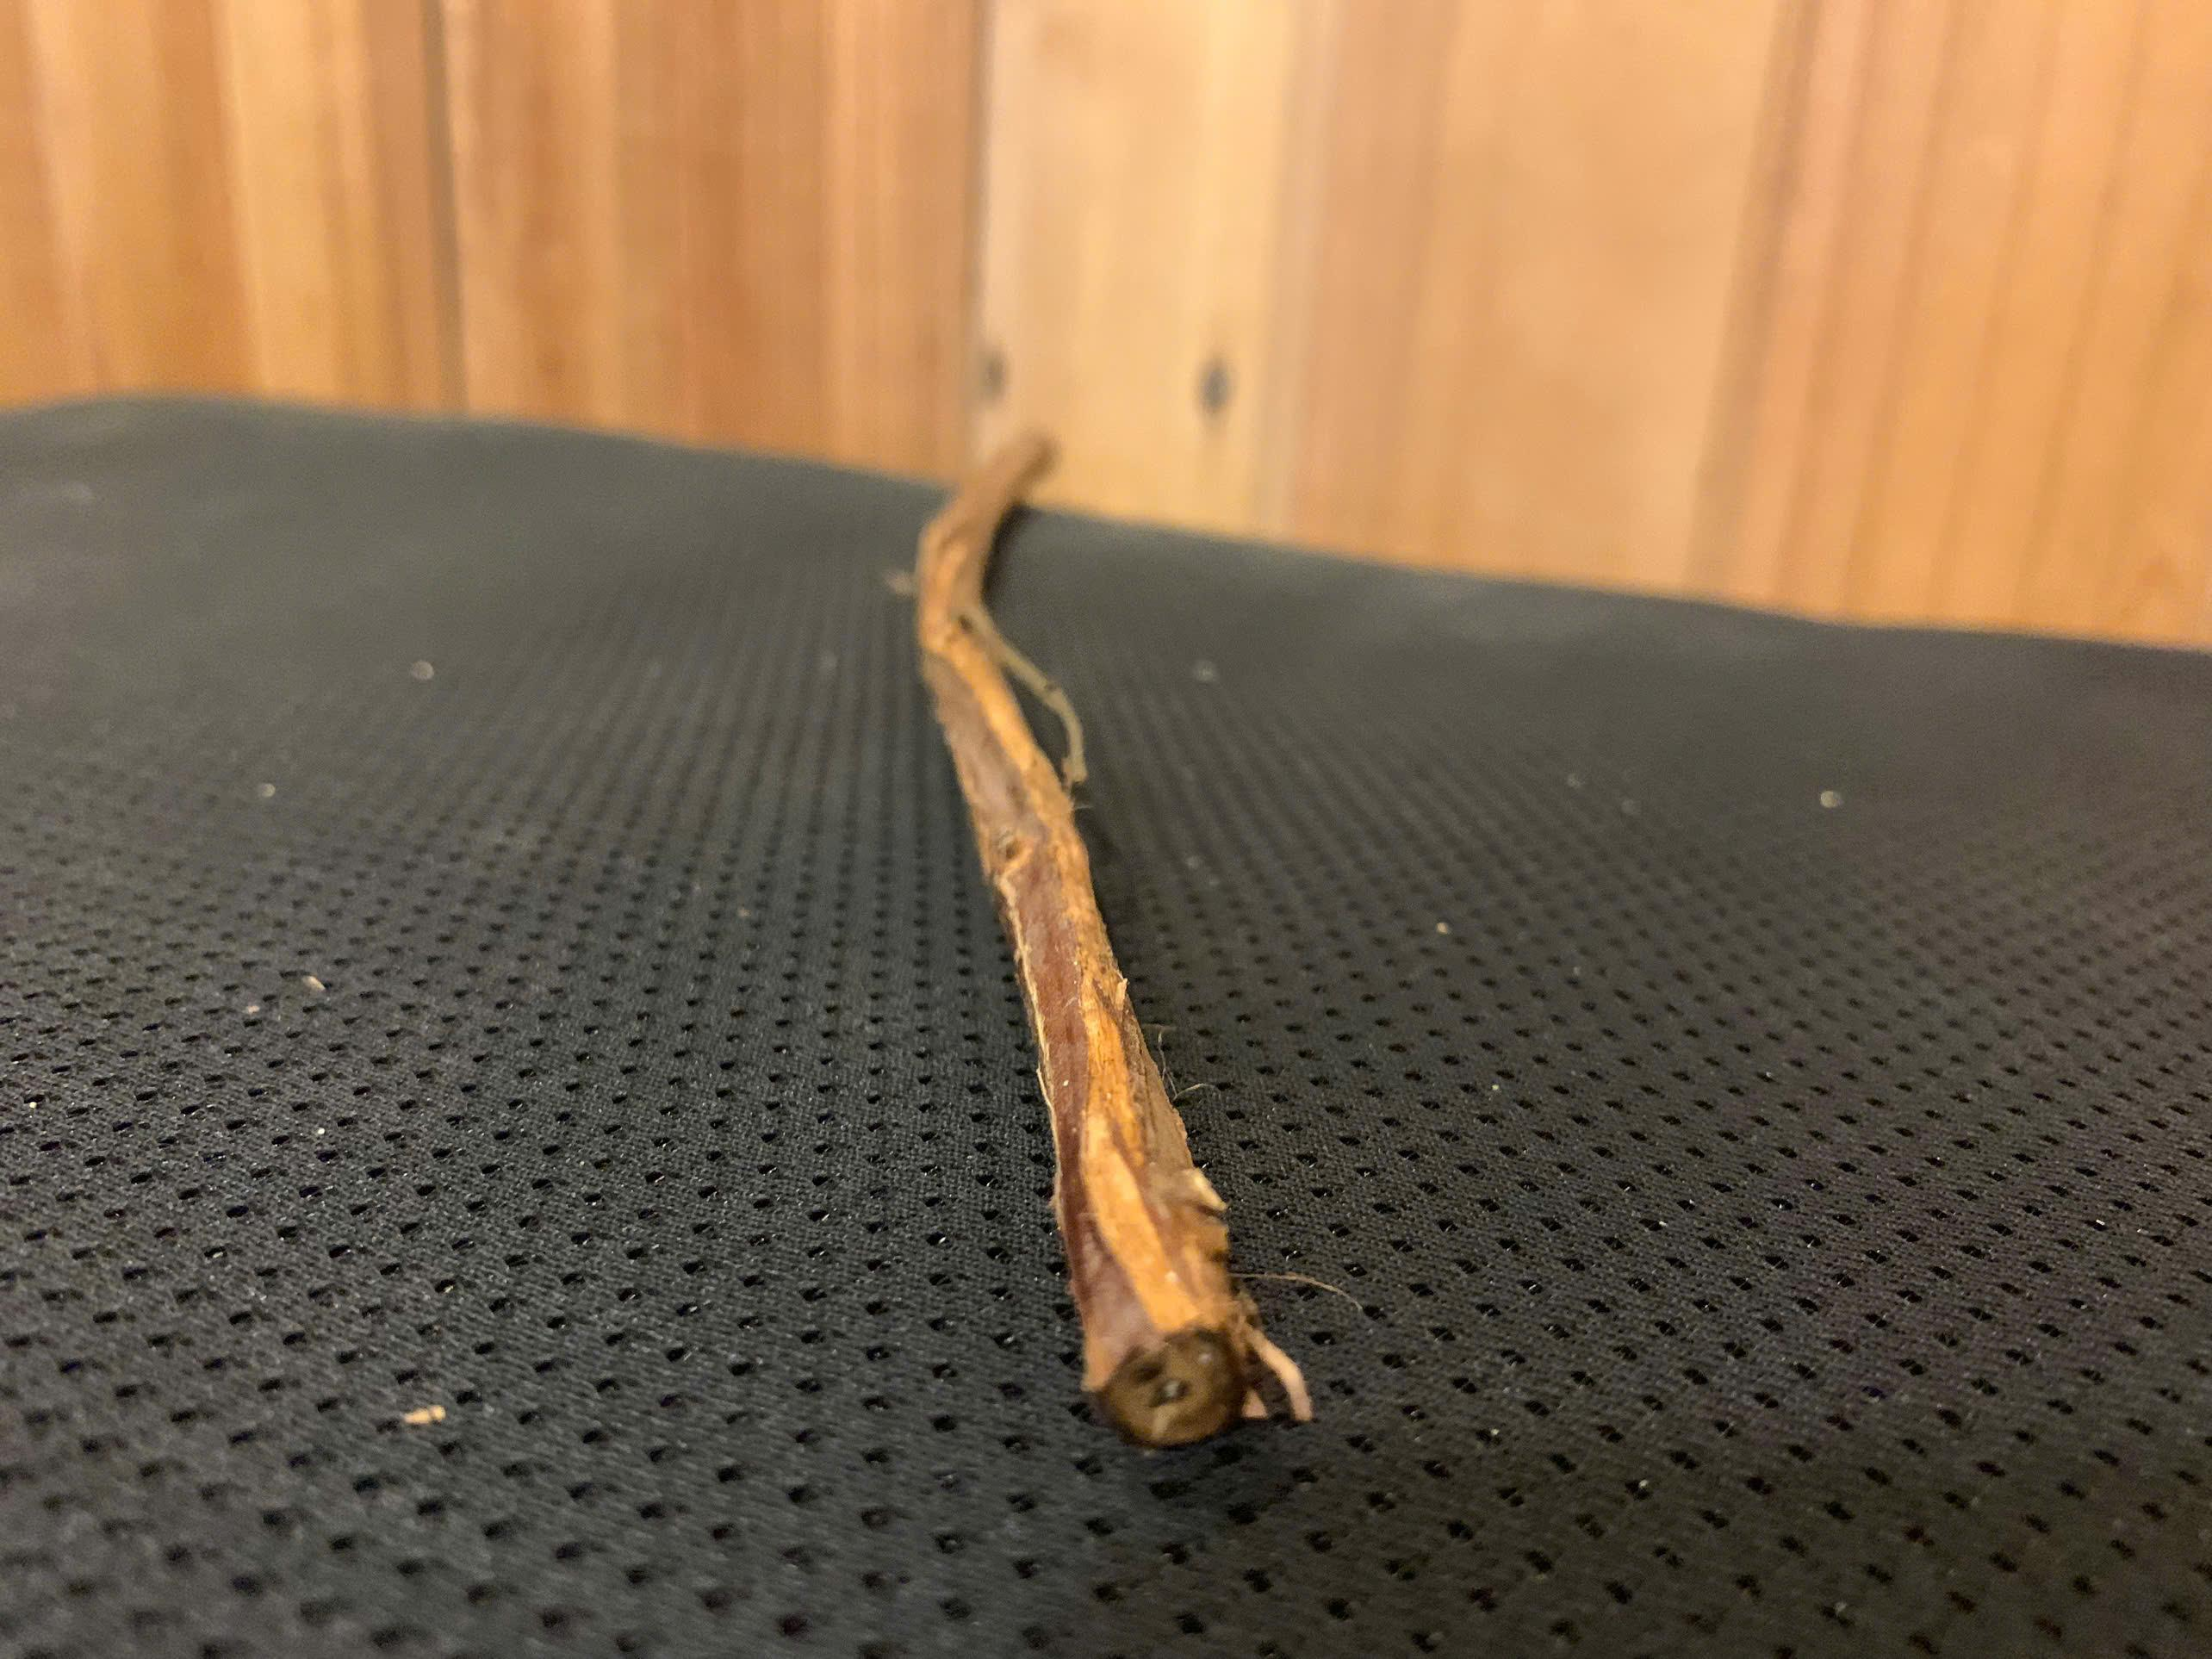Huu co: (911, 429, 1336, 1450)
